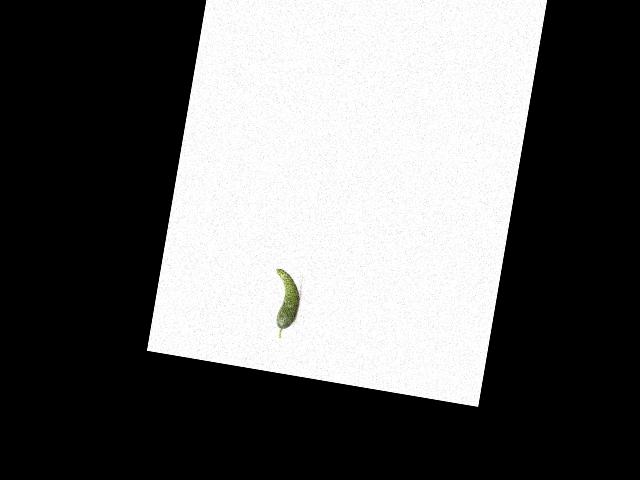cucumber: (265, 268, 303, 340)
